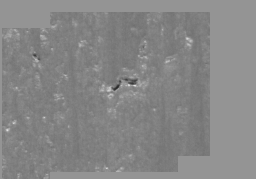oxl: (35, 10, 221, 169)
